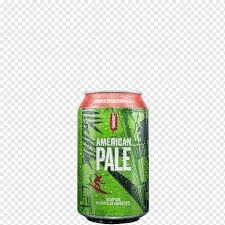can: (76, 89, 152, 223)
